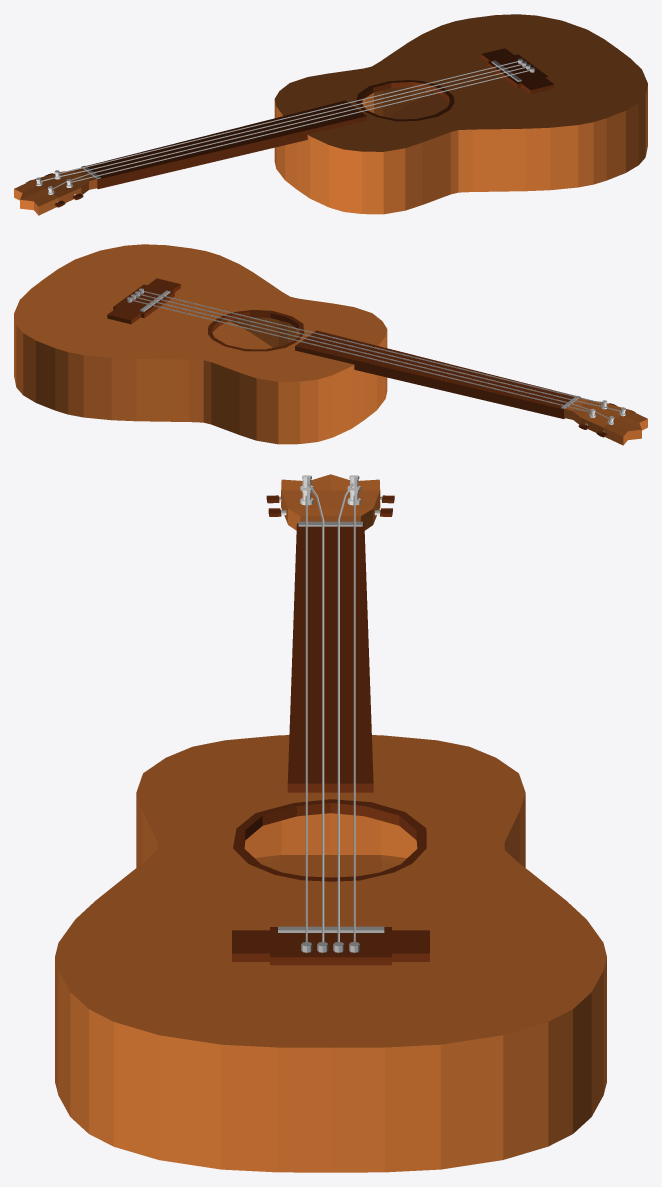
The model's file is Ukulele.fbx.
The picture shows the model from 3 angles, top to bottom: view 1: azimuth 30°, elevation 25°; view 2: azimuth 150°, elevation 25°; view 3: azimuth 270°, elevation 25°; orthographic projection. The views are drawn at different scales.
Parts seen in each view (by area): view 1: Node 0; view 2: Node 0; view 3: Node 0.
Boxes of the visible parts, left/top/right/bottom form: Node 0: left=14, top=14, right=647, bottom=215; Node 0: left=14, top=244, right=647, bottom=445; Node 0: left=55, top=474, right=606, bottom=1172.
Bounding box in the file's own units: 0.6481 × 0.1847 × 1.62.
